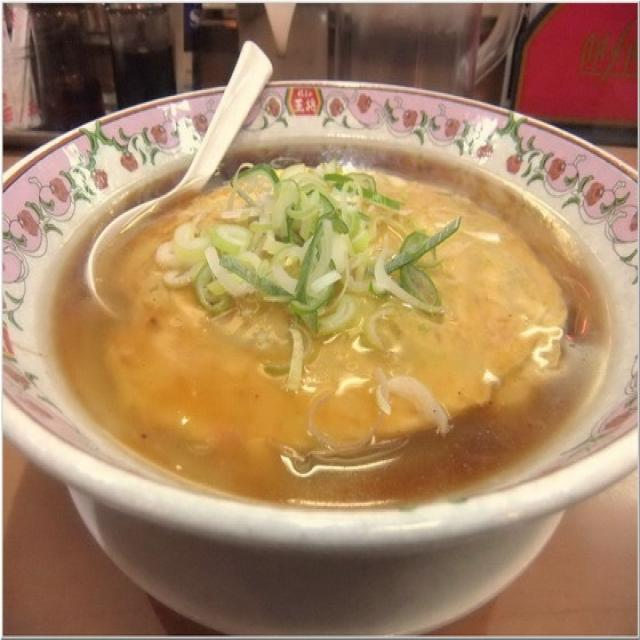面条主食: (2, 70, 636, 572)
